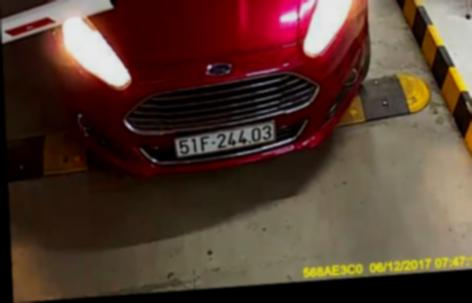License_Plate: (170, 118, 279, 155)
